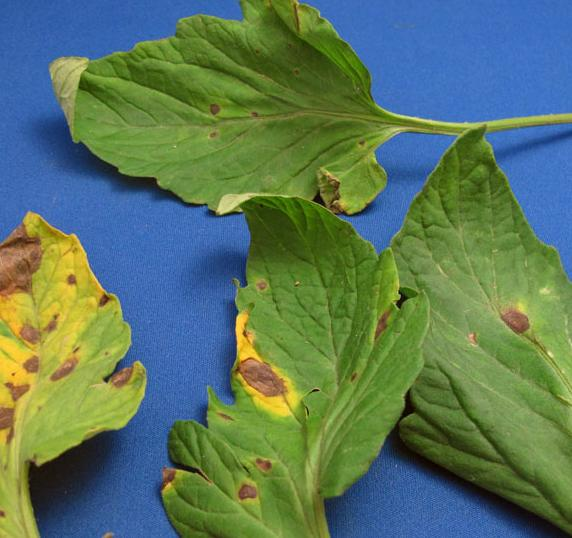Tomato Early blight leaf: (0, 0, 422, 227), (158, 192, 419, 538), (393, 123, 572, 538), (0, 201, 139, 538)
